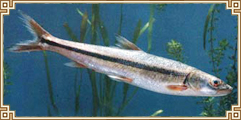fish: (9, 10, 233, 98)
